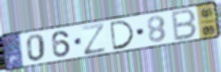0: (25, 33, 47, 63)
6: (50, 29, 73, 59)
8: (146, 14, 168, 44)
B: (171, 8, 198, 43)
D: (108, 19, 136, 51)
Z: (80, 21, 108, 57)
